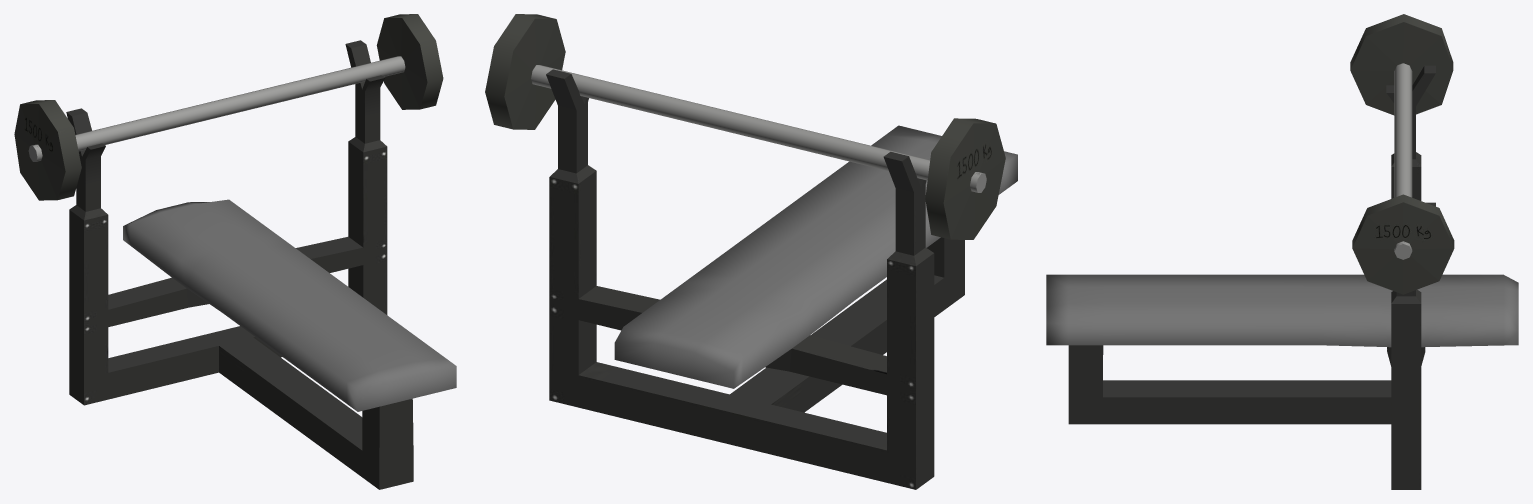
The model's file is Bench_Set_edited.fbx.
The picture shows the model from 3 angles, left to right: view 1: azimuth 30°, elevation 25°; view 2: azimuth 150°, elevation 25°; view 3: azimuth 270°, elevation 25°; orthographic projection. The views are drawn at different scales.
Parts seen in each view (by area): view 1: pCube1, Barbell; view 2: pCube1, Barbell; view 3: pCube1, Barbell.
Boxes of the visible parts, x1,y1,x2,y2 form: pCube1: [66, 40, 456, 489]; Barbell: [14, 14, 443, 200]; pCube1: [546, 69, 1017, 489]; Barbell: [485, 14, 1005, 239]; pCube1: [1046, 65, 1518, 489]; Barbell: [1350, 14, 1454, 294].
Size of the model in its own units: 283 by 211 by 294.
